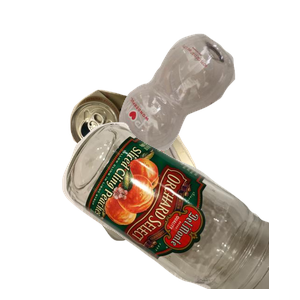glass: (60, 120, 300, 300)
metal: (67, 87, 206, 234)
plastic: (99, 31, 300, 189)
trash: (90, 129, 295, 300)
